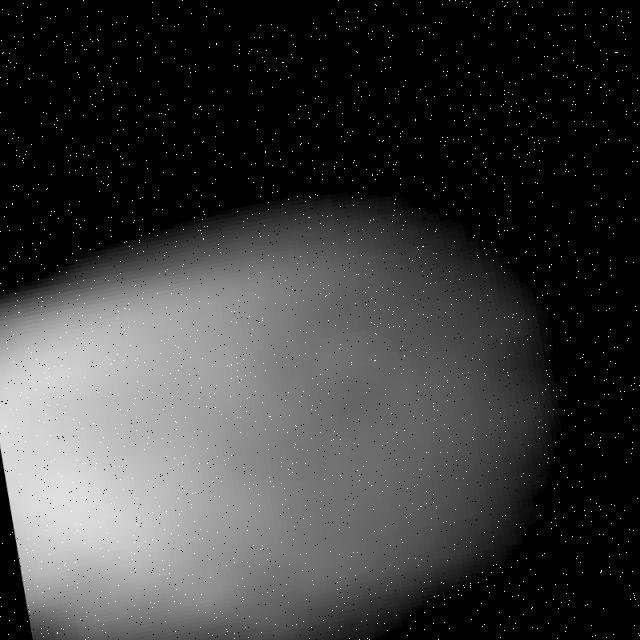person: (1, 174, 635, 640)
